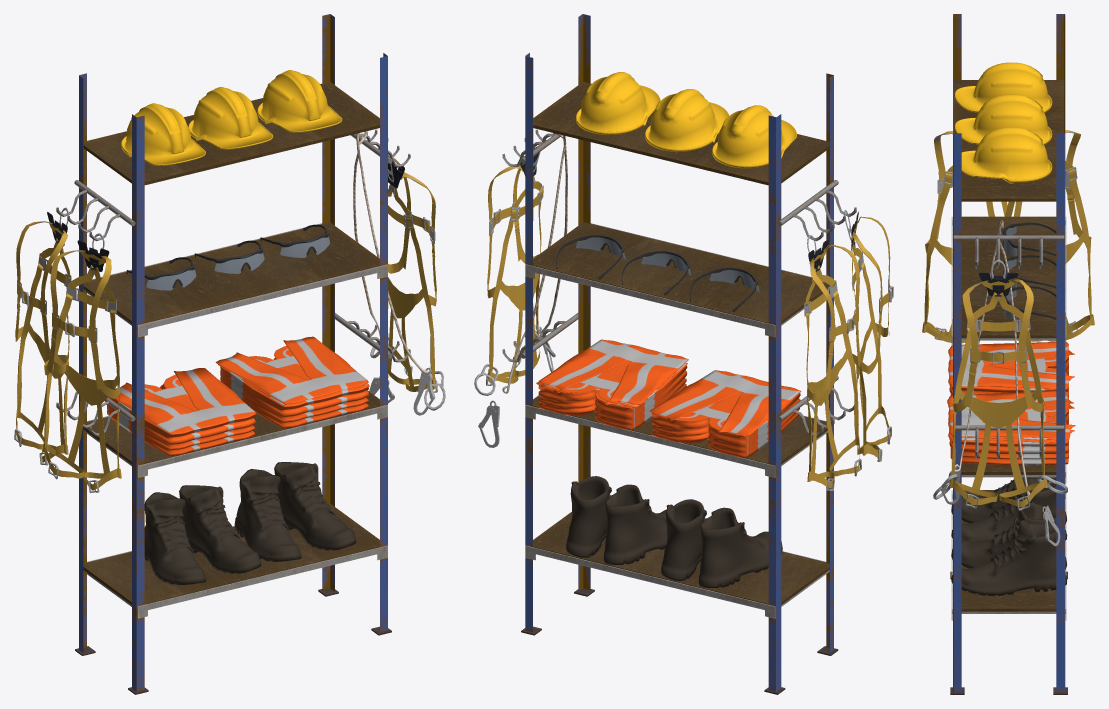
Rendered from PPE Kit and shelf_02.fbx.
3 renders of one model, left to right at view 1: azimuth 30°, elevation 25°; view 2: azimuth 150°, elevation 25°; view 3: azimuth 270°, elevation 25°, orthographic. The views are drawn at different scales.
Visible parts, largest first — view 1: PPE shelf, Jacket_geo.004, Harness_geo.013, Jacket_geo.001, Harness_geo.012, Harness_geo.009, Boots_L_geo.002, Boots_L_geo.001, Boots_R_geo.001, Boots_R_geo.002, Helmet_geo.002, Helmet_geo.012 (+6 smaller); view 2: PPE shelf, Jacket_geo.004, Jacket_geo.001, Harness_geo.012, Harness_geo.009, Boots_R_geo.002, Boots_R_geo.001, Helmet_geo.002, Helmet_geo.012, Jacket_geo.002, Harness_geo.013, Helmet_geo.003 (+6 smaller); view 3: PPE shelf, Harness_geo.009, Boots_L_geo.001, Helmet_geo.002, Jacket_geo.004, Helmet_geo.012, Helmet_geo.003, Jacket_geo.001, Harness_geo.012, Harness_geo.013, Jacket_geo.002, Boots_L_geo.002 (+7 smaller).
Boxes of the visible parts, x1=… form: PPE shelf: x1=56, y1=14, x2=410, y2=694; Jacket_geo.004: x1=107, y1=368, x2=256, y2=456; Harness_geo.013: x1=42, y1=233, x2=121, y2=493; Jacket_geo.001: x1=215, y1=336, x2=368, y2=404; Harness_geo.012: x1=14, y1=207, x2=71, y2=465; Harness_geo.009: x1=388, y1=155, x2=437, y2=392; Boots_L_geo.002: x1=179, y1=485, x2=261, y2=573; Boots_L_geo.001: x1=274, y1=462, x2=356, y2=550; Boots_R_geo.001: x1=234, y1=469, x2=301, y2=561; Boots_R_geo.002: x1=144, y1=492, x2=206, y2=584; Helmet_geo.002: x1=257, y1=70, x2=342, y2=132; Helmet_geo.012: x1=188, y1=87, x2=273, y2=149; PPE shelf: x1=502, y1=14, x2=856, y2=694; Jacket_geo.004: x1=650, y1=370, x2=801, y2=458; Jacket_geo.001: x1=539, y1=339, x2=688, y2=407; Harness_geo.012: x1=804, y1=235, x2=861, y2=490; Harness_geo.009: x1=486, y1=145, x2=543, y2=385; Boots_R_geo.002: x1=698, y1=507, x2=782, y2=588; Boots_R_geo.001: x1=603, y1=484, x2=667, y2=564; Helmet_geo.002: x1=576, y1=72, x2=660, y2=134; Helmet_geo.012: x1=645, y1=89, x2=729, y2=151; Jacket_geo.002: x1=536, y1=363, x2=687, y2=430; Harness_geo.013: x1=844, y1=210, x2=893, y2=461; Helmet_geo.003: x1=712, y1=105, x2=796, y2=168; PPE shelf: x1=950, y1=14, x2=1067, y2=694; Harness_geo.009: x1=949, y1=259, x2=1047, y2=510; Boots_L_geo.001: x1=951, y1=520, x2=1066, y2=595; Helmet_geo.002: x1=961, y1=127, x2=1052, y2=183; Jacket_geo.004: x1=948, y1=342, x2=1074, y2=397; Helmet_geo.012: x1=955, y1=94, x2=1052, y2=145; Helmet_geo.003: x1=955, y1=62, x2=1052, y2=112; Jacket_geo.001: x1=947, y1=390, x2=1075, y2=440; Harness_geo.012: x1=1005, y1=130, x2=1094, y2=341; Harness_geo.013: x1=922, y1=131, x2=1007, y2=343; Jacket_geo.002: x1=948, y1=396, x2=1074, y2=465; Boots_L_geo.002: x1=951, y1=477, x2=1067, y2=541.
Bounding box in the file's own units: 118 × 170 × 47.59.
Materials: 4 (4 with a texture image).
